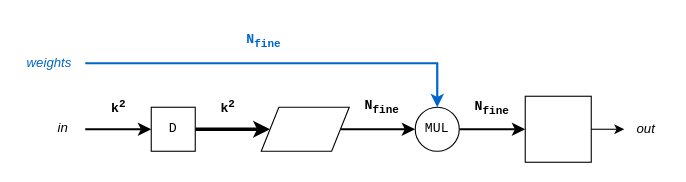
This 686x182 diagram has some shape labels left out. The centre of each missing label's shape, as x and y in pixels:
ADDER TREE: the point at 557,128
INTR: the point at 304,128
